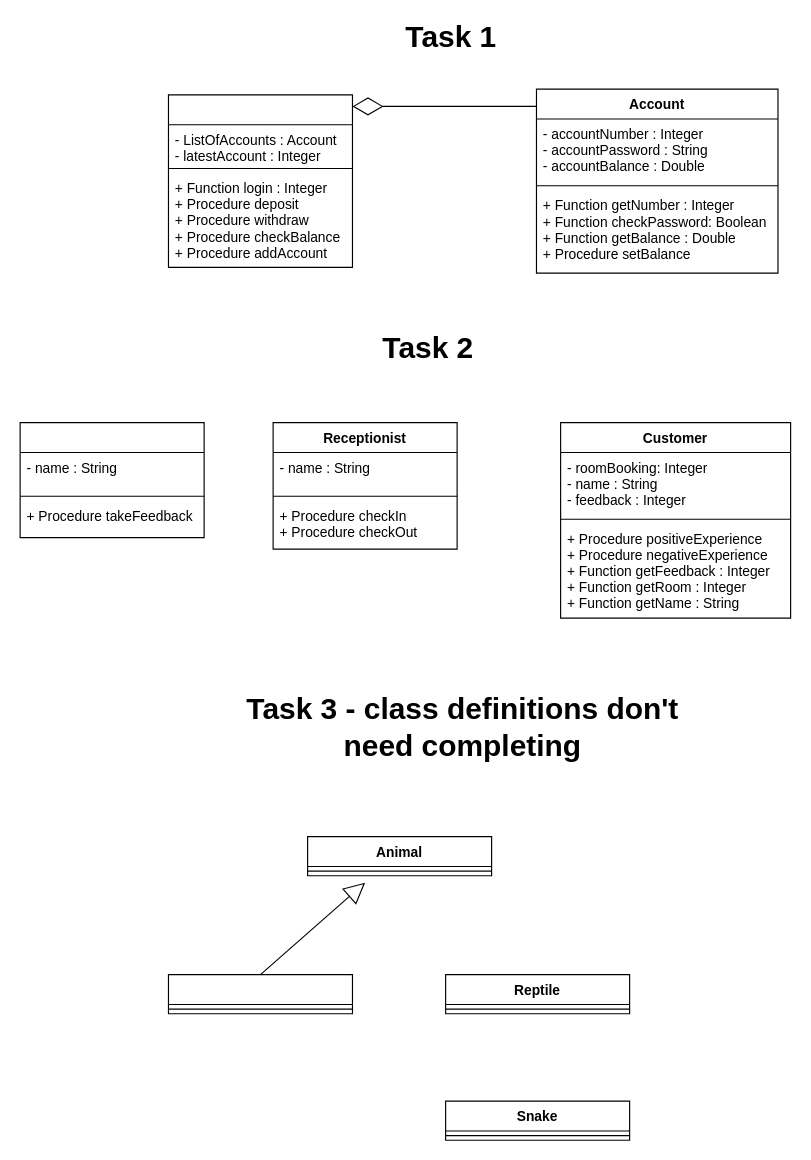
Some shapes in this 811 by 1160 pixel diagram are drawn without their labels. Each missing label, with the box of its shape:
Bank: (167, 94, 352, 267)
Mammal: (167, 973, 352, 1014)
Manager: (19, 421, 204, 538)
